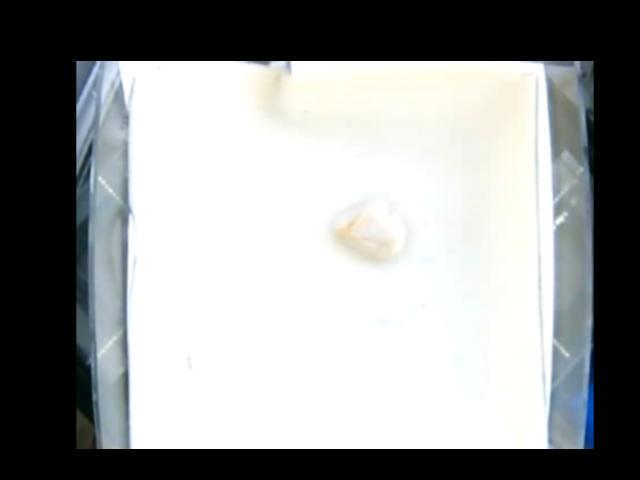Pebble: (335, 199, 407, 259)
